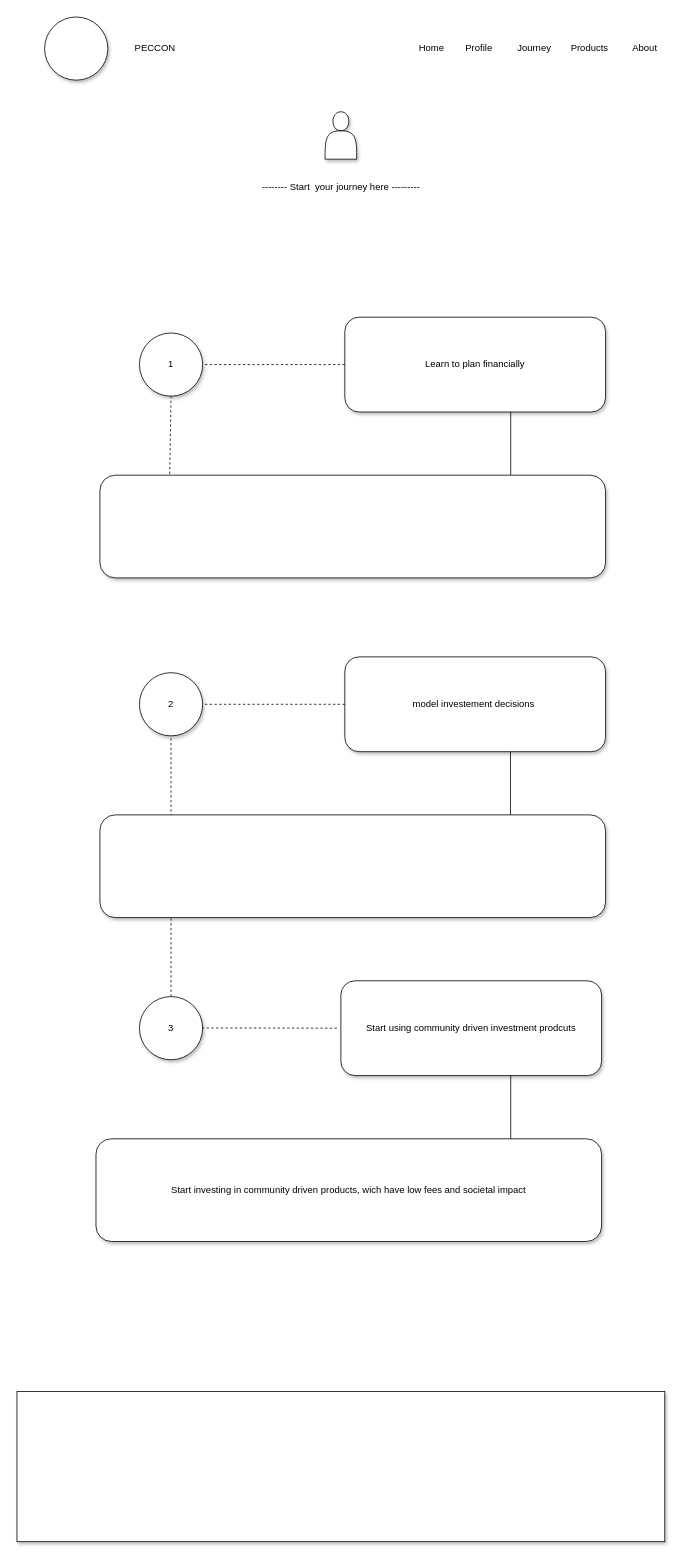
Some shapes in this 687 by 1561 pixel diagram are drawn without their labels. The shapes that lost their labels are listed below. From the top down, each one's centre as x and y in pixels, then its label:
pixel 77 49: logo
pixel 353 527: Earn tokens the more exercises and financial theory you see.
pixel 353 867: get access to financial planning tools through the tokens
